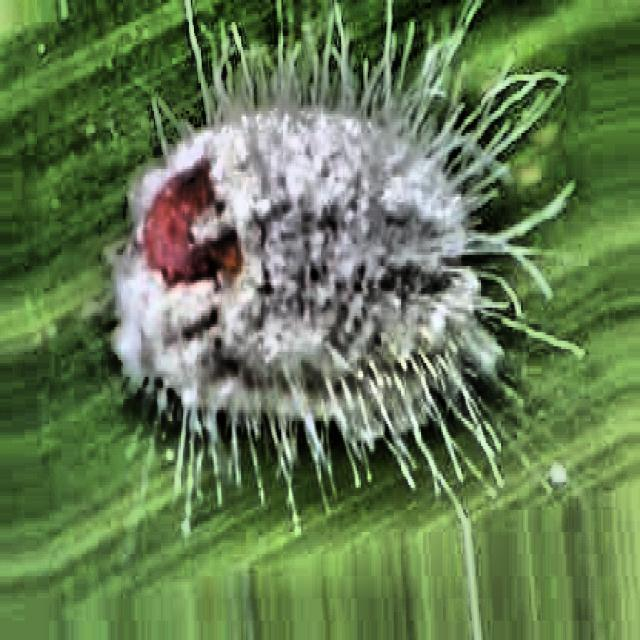Mealy-bug: (74, 5, 546, 551)
